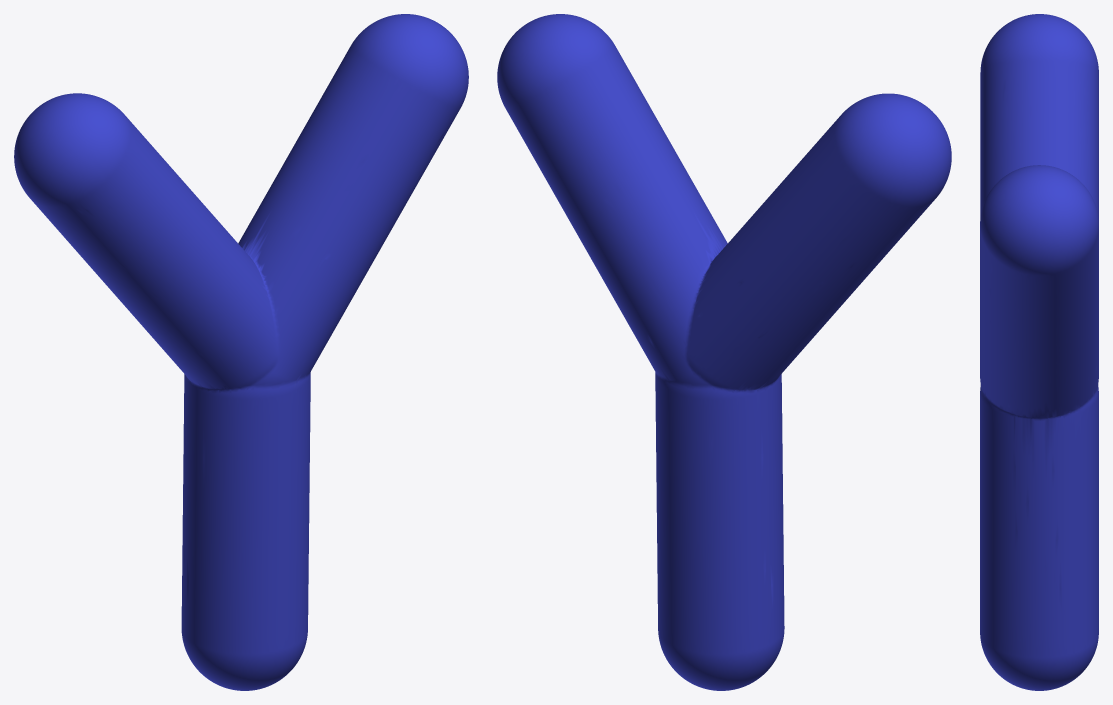
The model's file is letter-y.glb.
3 views of the same model, side by side, from view 1: azimuth 30°, elevation 25°; view 2: azimuth 150°, elevation 25°; view 3: azimuth 270°, elevation 25° (orthographic). The views are drawn at different scales.
Visible parts, largest first — view 1: node_id3; view 2: node_id3; view 3: node_id3.
Boxes of the visible parts, x1,y1,x2,y2 form: node_id3: [14, 14, 468, 690]; node_id3: [497, 14, 951, 690]; node_id3: [980, 14, 1098, 690].
Bounding box in the file's own units: 0.3743 × 0.512 × 0.0936.
Materials: 1 (1 with a texture image).
